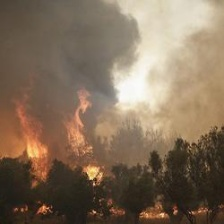fire: (14, 94, 175, 219)
smoke: (4, 8, 205, 93)
